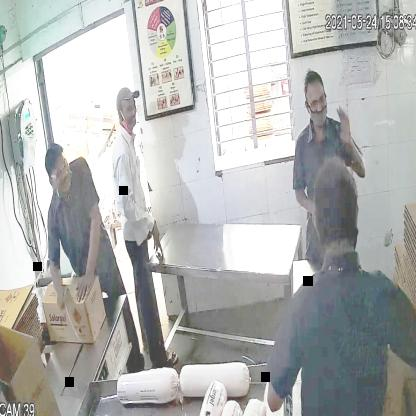goggles: (46, 152, 69, 185), (304, 88, 327, 114)
